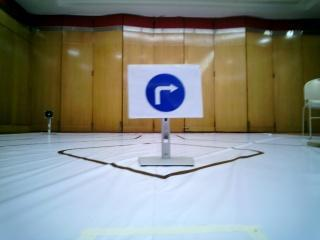right: (131, 65, 201, 116)
